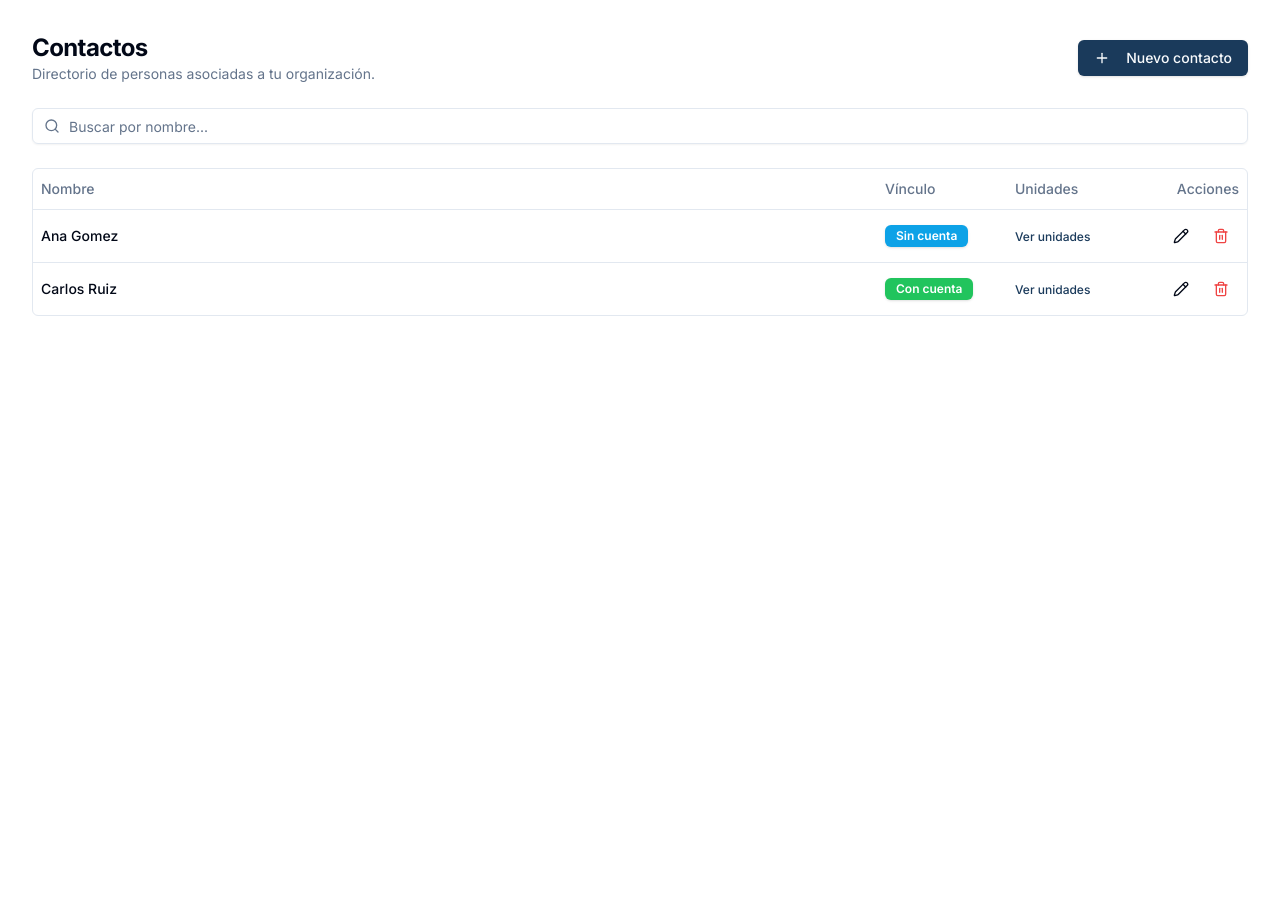
Test case: ContactosPage › abre el diálogo 'Nuevo contacto' al hacer click en Nuevo
The width and height of the screenshot is (1280, 900).
Click the button "Nuevo contacto". click: (1163, 58)
box: [1078,40,1248,76]
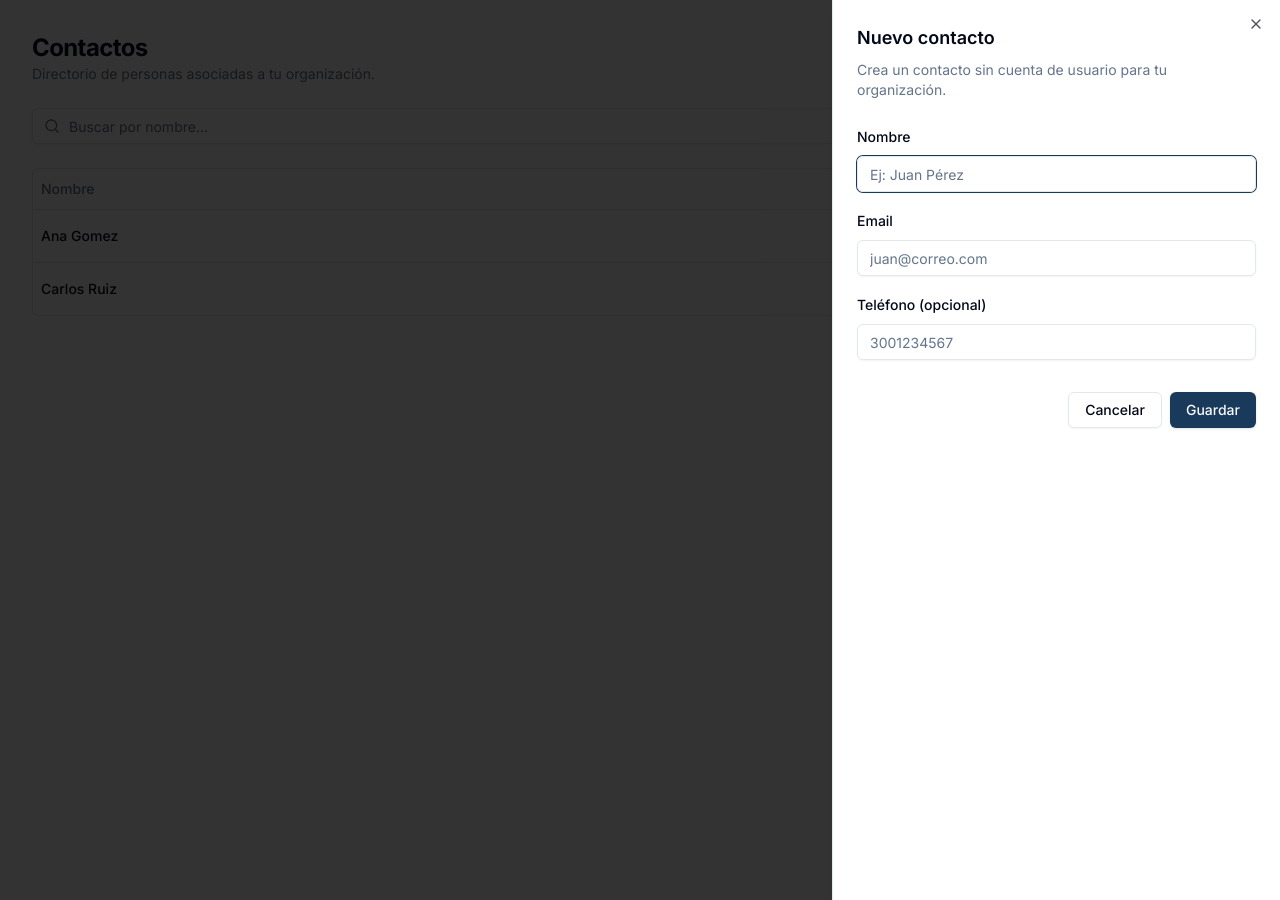
Check: the heading "Nuevo contacto" is shown, box [857,27,995,48]
Check: the field labelled "Nombre" is empty, box [857,156,1256,192]
